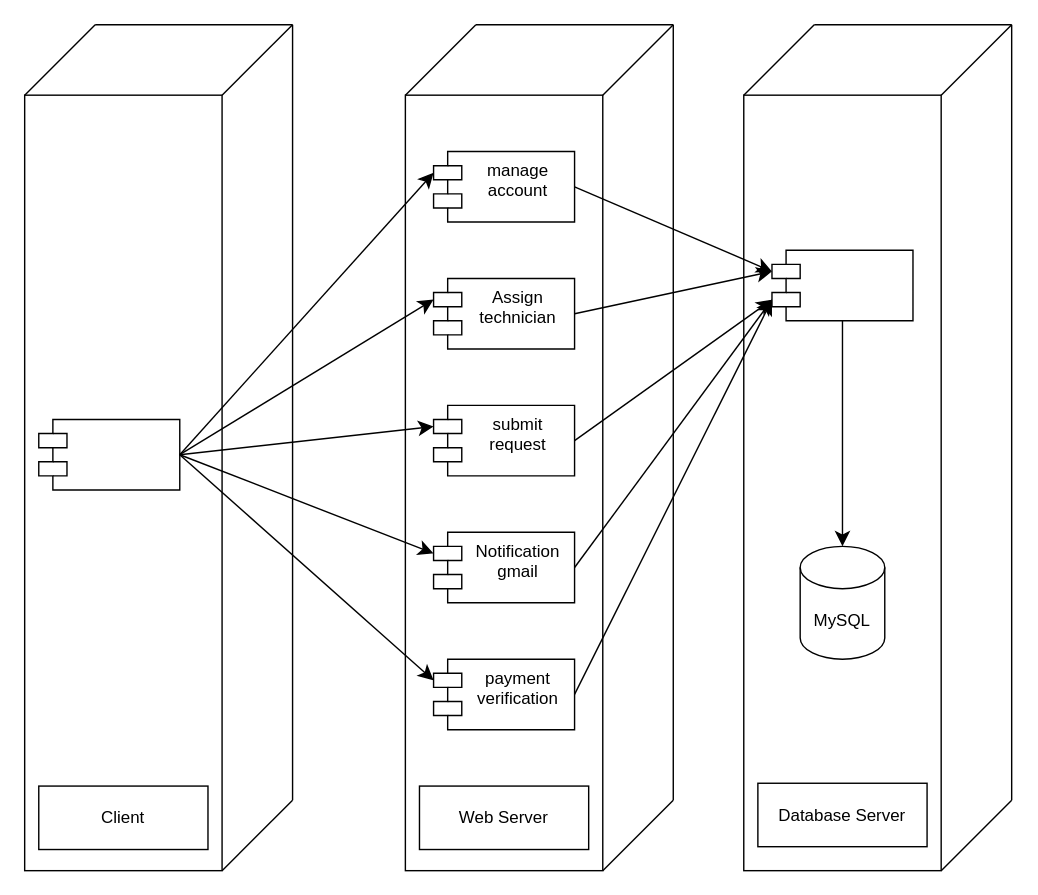
This 1038x895 diagram has some shape labels left out. Here are the shapes that lost their labels. From the top down, the box of each, then its label:
(771, 249, 913, 321): Security
(37, 418, 180, 490): brawser
